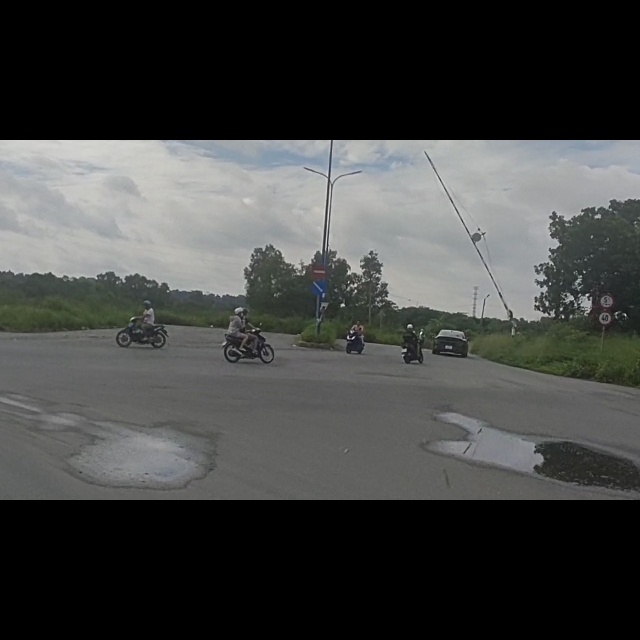bien_cam: (310, 244, 328, 275), (599, 301, 612, 333), (313, 219, 328, 245)
